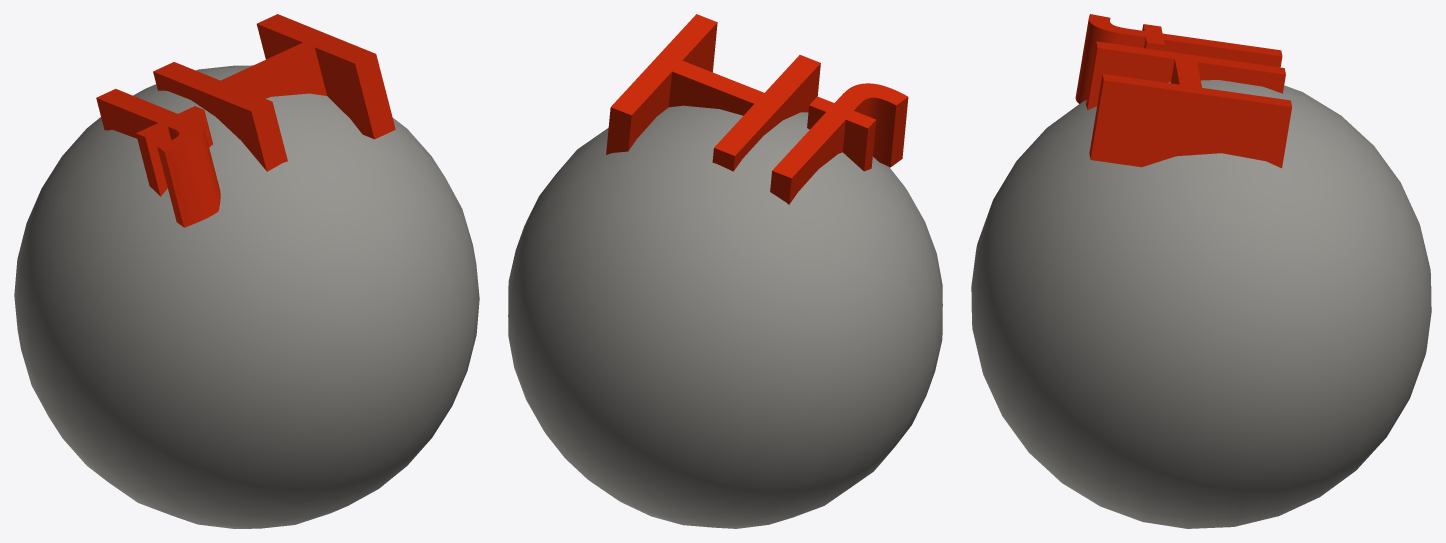
3 views of the same model, side by side, from view 1: azimuth 30°, elevation 25°; view 2: azimuth 150°, elevation 25°; view 3: azimuth 270°, elevation 25° (orthographic). The views are drawn at different scales.
Parts seen in each view (by area): view 1: Hf; view 2: Hf; view 3: Hf.
Boxes of the visible parts, x1,y1,x2,y2 form: Hf: (14,14,479,528); Hf: (508,14,942,528); Hf: (971,14,1431,528).
Bounding box in the file's own units: 38.69 × 43.15 × 38.6.
